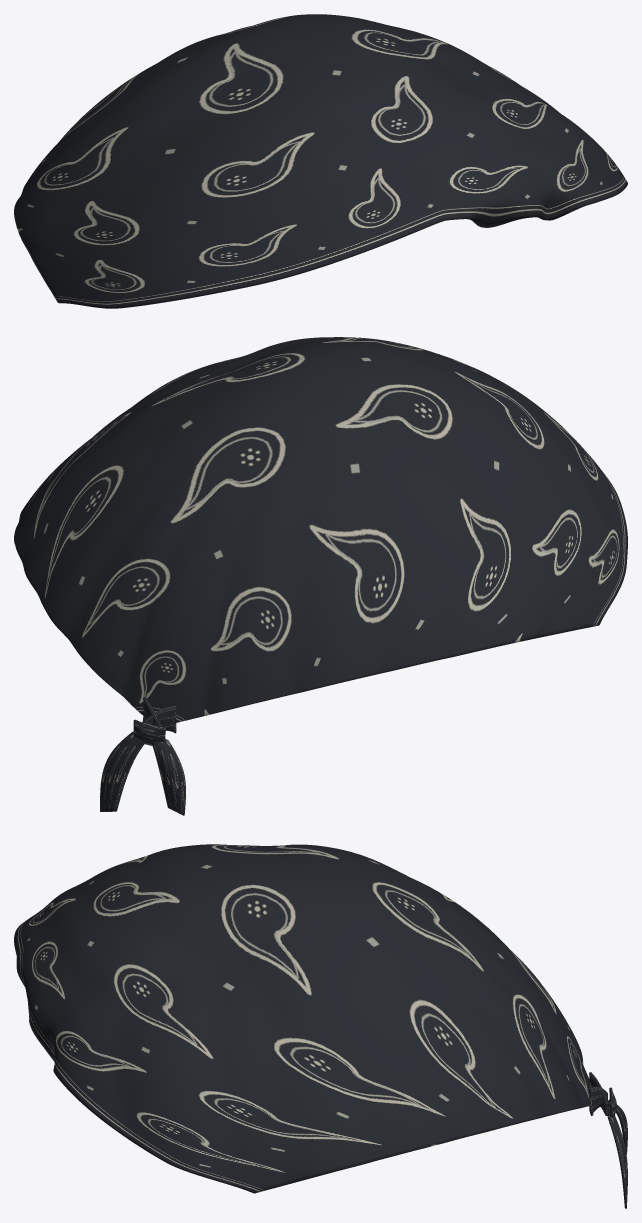
The model's file is Feminine-straight-bandana.glb.
3 renders of one model, top to bottom at view 1: azimuth 30°, elevation 25°; view 2: azimuth 150°, elevation 25°; view 3: azimuth 270°, elevation 25°, orthographic.
Visible parts, largest first — view 1: Bandana / folded crown scarf; view 2: Bandana / folded crown scarf, Bandana / falling tie 1, Bandana / falling tie -1; view 3: Bandana / folded crown scarf, Bandana / falling tie 1.
Boxes of the visible parts, x1=… form: Bandana / folded crown scarf: x1=14, y1=14, x2=627, y2=308; Bandana / folded crown scarf: x1=14, y1=337, x2=627, y2=722; Bandana / falling tie 1: x1=100, y1=731, x2=145, y2=811; Bandana / falling tie -1: x1=151, y1=739, x2=185, y2=815; Bandana / folded crown scarf: x1=14, y1=844, x2=593, y2=1193; Bandana / falling tie 1: x1=607, y1=1100, x2=627, y2=1208.
Bounding box in the file's own units: 0.7573 × 0.4208 × 0.7361.
Materials: 1 (1 with a texture image).
